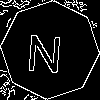N: (25, 25, 65, 73)
